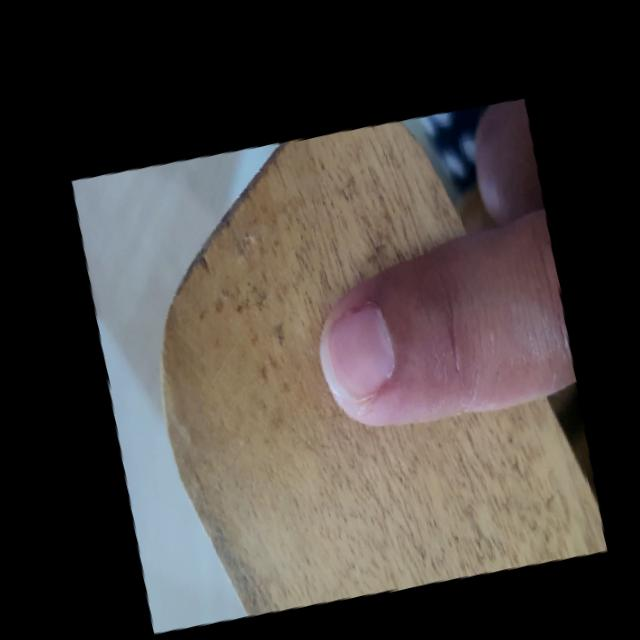Nail: (319, 304, 391, 400)
